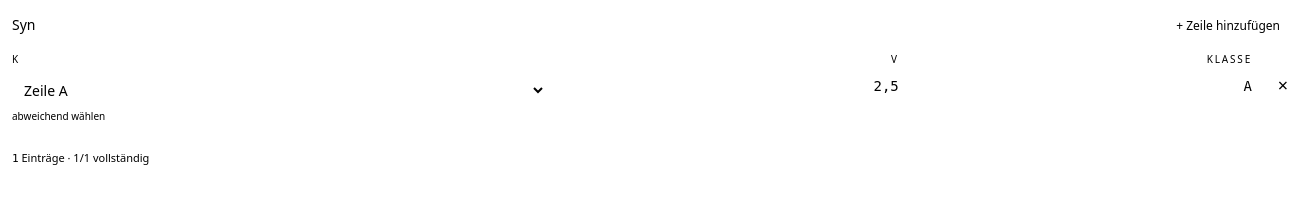
it: RegisterEditor — override policy from the TABLE (I-4) › anhaltswert without a projectId: the reason form cannot post (no audit path) — the missing-reason state still shows
The width and height of the screenshot is (1304, 216).
Click the button "abweichend wählen" at [59, 116], box [12,109,105,124]
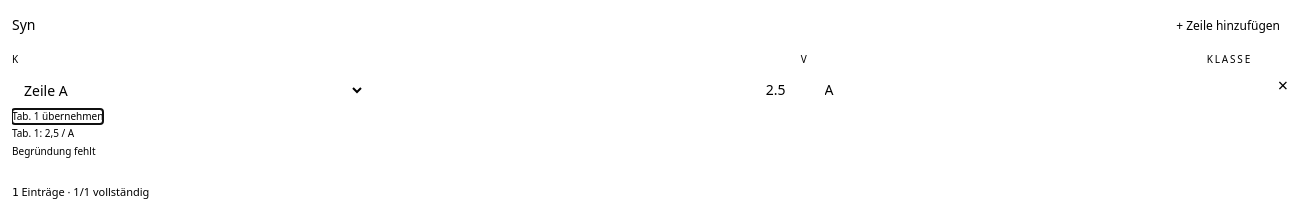
expect the text "Begründung fehlt" is shown: met, box [12,144,96,158]
